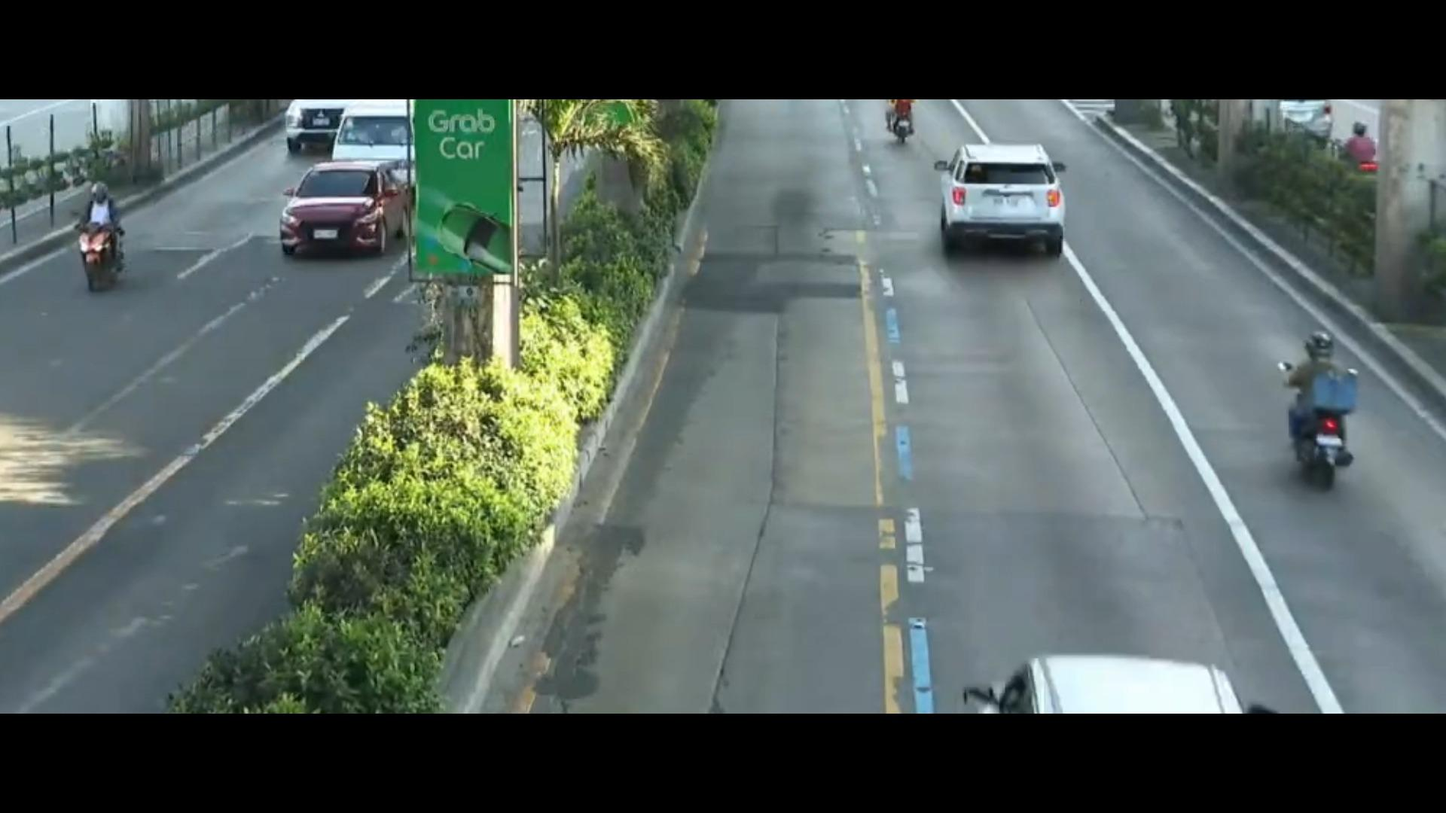Motorcycle: (58, 170, 147, 289)
SUV: (925, 113, 1090, 267), (290, 100, 334, 143)
Sedan: (268, 155, 405, 273)
Truck: (334, 93, 406, 166)
